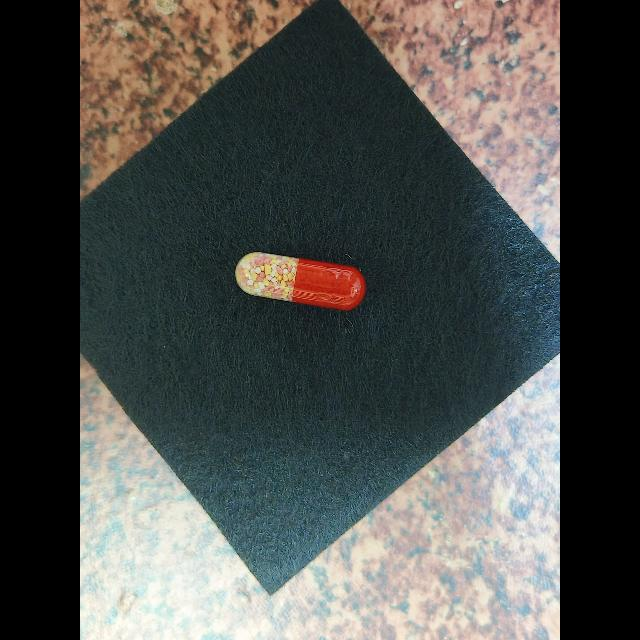Intact Capsule: (235, 252, 366, 311)
